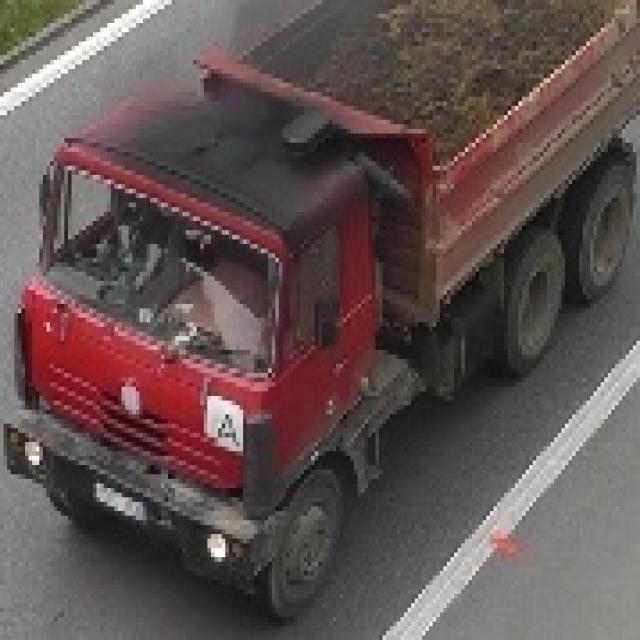truck: (0, 0, 636, 612)
